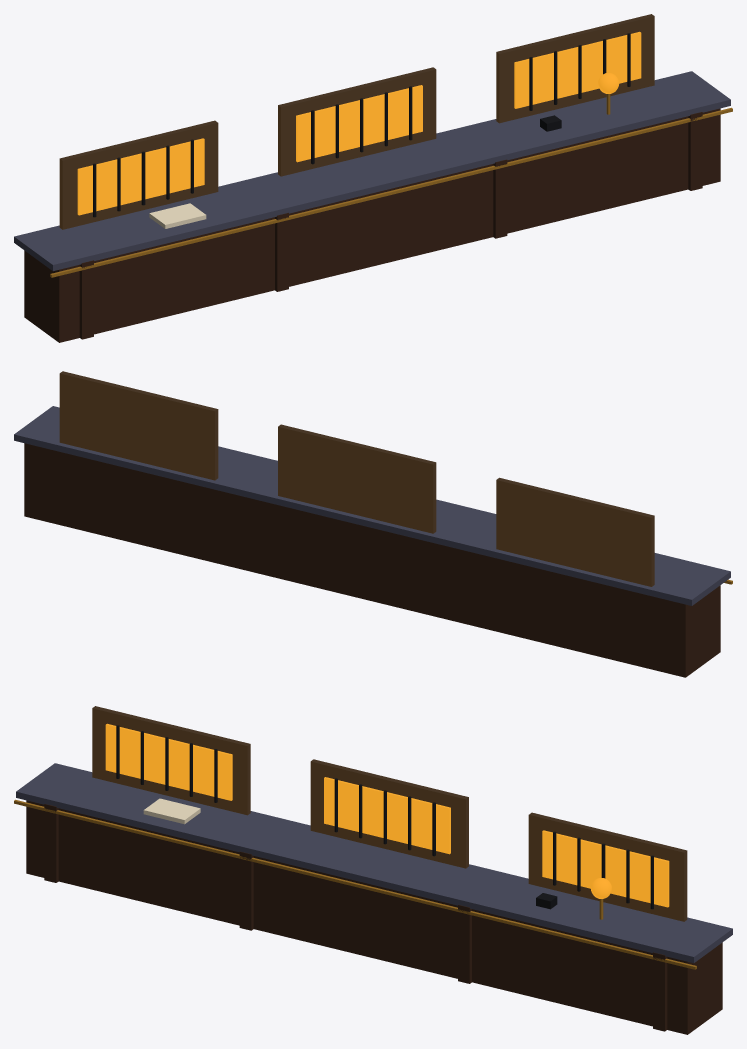
File: teller-counter.glb
3 renders of one model, top to bottom at view 1: azimuth 30°, elevation 25°; view 2: azimuth 150°, elevation 25°; view 3: azimuth 330°, elevation 25°, orthographic.
Visible parts, largest first — view 1: counter carved body, marble counter top, teller cage window 0, teller cage window 1, teller cage window 2, warm cage glow 0, warm cage glow 1, warm cage glow 2, brass front line, counter pilaster 3, counter pilaster 0, counter pilaster 2 (+2 smaller); view 2: counter carved body, marble counter top, teller cage window 2, teller cage window 1, teller cage window 0; view 3: counter carved body, marble counter top, teller cage window 0, teller cage window 2, teller cage window 1, warm cage glow 0, warm cage glow 1, warm cage glow 2, brass front line, counter pilaster 1, counter pilaster 3, counter pilaster 0 (+2 smaller).
Boxes of the visible parts, left/top/right/bottom form: counter carved body: left=24, top=108, right=720, bottom=342; marble counter top: left=14, top=71, right=730, bottom=271; teller cage window 0: left=59, top=120, right=218, bottom=229; teller cage window 1: left=278, top=67, right=436, bottom=176; teller cage window 2: left=496, top=14, right=654, bottom=123; warm cage glow 0: left=77, top=138, right=204, bottom=215; warm cage glow 1: left=296, top=85, right=422, bottom=162; warm cage glow 2: left=514, top=31, right=641, bottom=108; brass front line: left=50, top=107, right=732, bottom=277; counter pilaster 3: left=688, top=112, right=702, bottom=190; counter pilaster 0: left=79, top=260, right=93, bottom=339; counter pilaster 2: left=493, top=159, right=507, bottom=238; counter carved body: left=24, top=443, right=720, bottom=677; marble counter top: left=14, top=406, right=730, bottom=605; teller cage window 2: left=59, top=371, right=218, bottom=480; teller cage window 1: left=278, top=424, right=436, bottom=533; teller cage window 0: left=496, top=477, right=654, bottom=586; counter carved body: left=26, top=800, right=722, bottom=1034; marble counter top: left=16, top=763, right=732, bottom=963; teller cage window 0: left=92, top=706, right=250, bottom=815; teller cage window 2: left=528, top=812, right=687, bottom=921; teller cage window 1: left=310, top=759, right=468, bottom=868; warm cage glow 0: left=105, top=723, right=232, bottom=800; warm cage glow 1: left=324, top=777, right=450, bottom=854; warm cage glow 2: left=542, top=830, right=669, bottom=907; brass front line: left=14, top=799, right=696, bottom=969; counter pilaster 1: left=239, top=851, right=253, bottom=930; counter pilaster 3: left=653, top=952, right=667, bottom=1031; counter pilaster 0: left=44, top=804, right=58, bottom=882.
Bounding box in the file's own units: 10.3 × 2.18 × 1.03.
